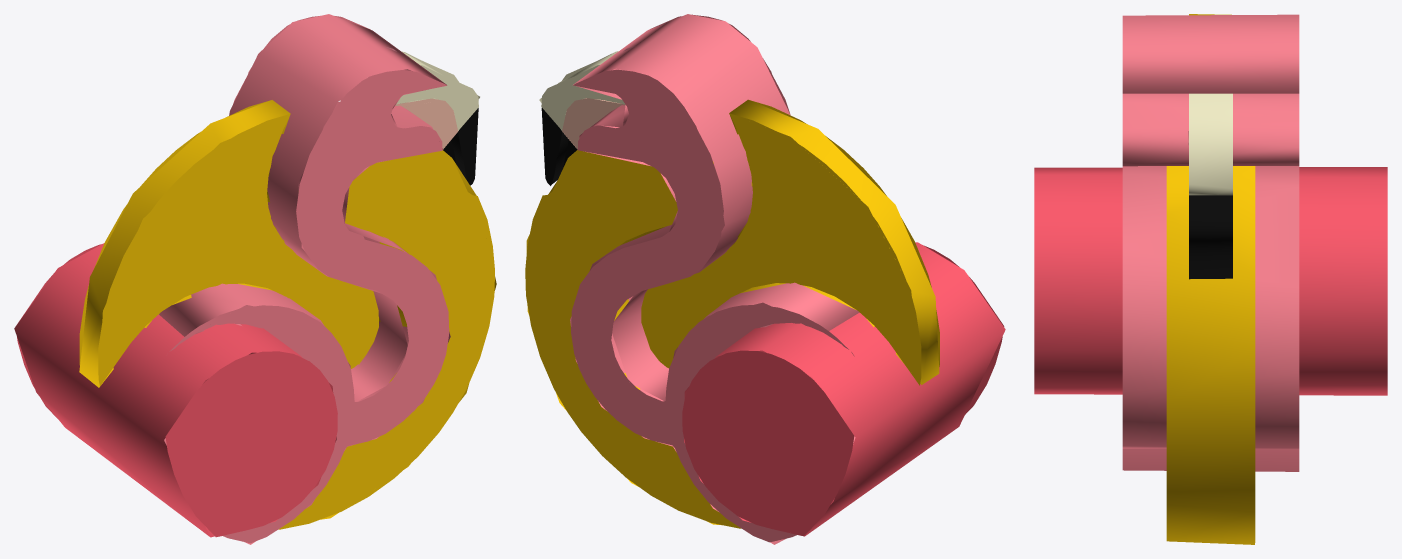
Rendered from pelican.glb.
3 views of the same model, side by side, from view 1: azimuth 30°, elevation 25°; view 2: azimuth 150°, elevation 25°; view 3: azimuth 270°, elevation 25° (orthographic). The views are drawn at different scales.
Parts seen in each view (by area): view 1: pelican; view 2: pelican; view 3: pelican.
Boxes of the visible parts, box(x1,y1,x2,y2) form: pelican: box(14, 14, 496, 544); pelican: box(525, 14, 1005, 544); pelican: box(1034, 14, 1387, 544).
Size of the model in its own units: 3.25 by 3.61 by 2.17.
